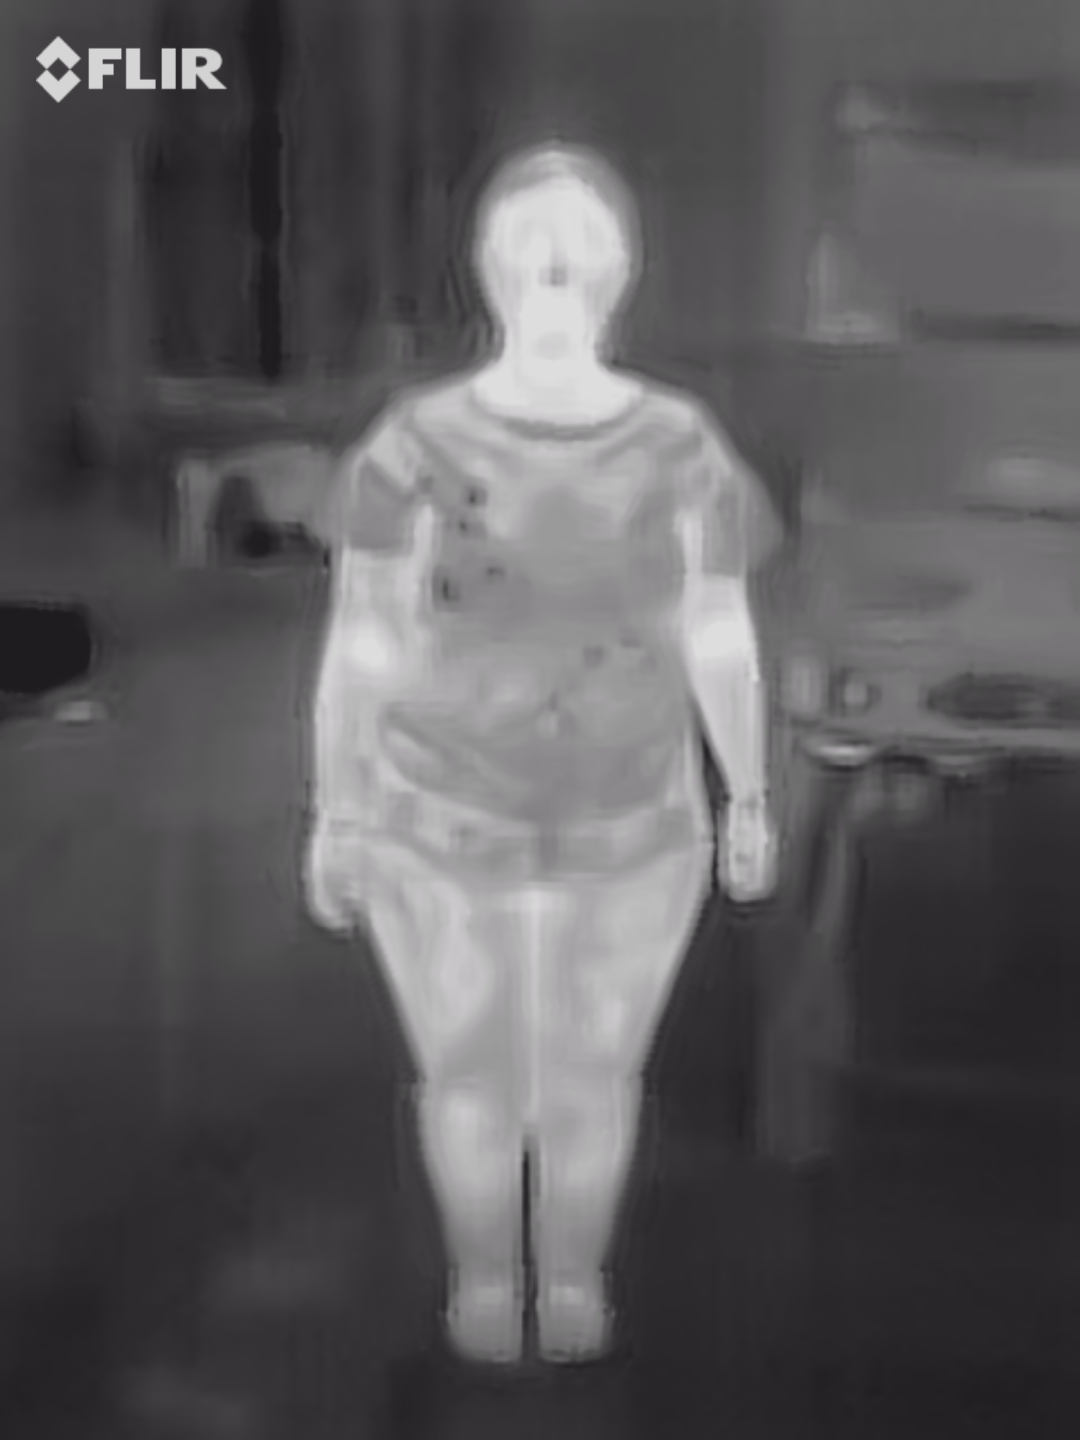head: (470, 141, 639, 371)
